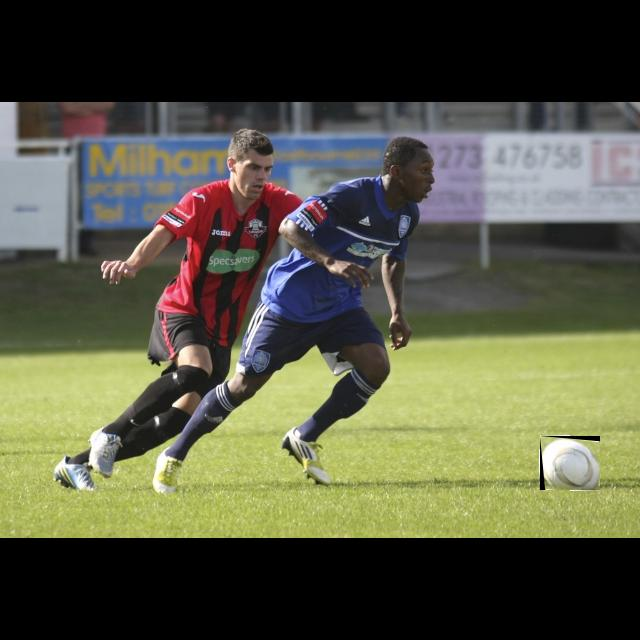Football: (540, 436, 600, 490)
